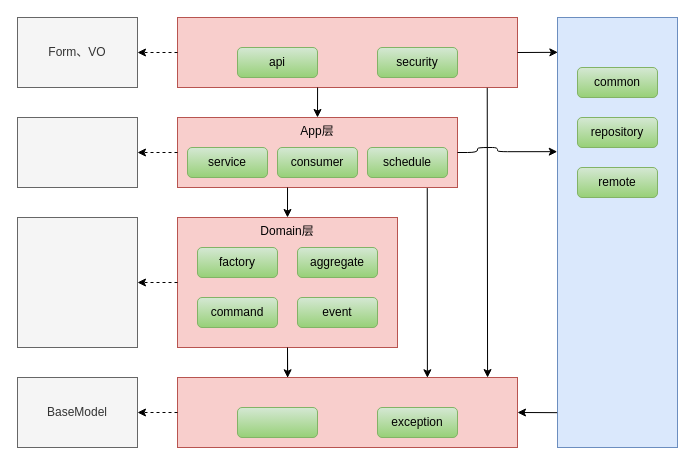
Image size: 695x465. Some labels were removed from this diagram. Here are the shapes that lost their labels. From the top down, the box of each, then its label:
(176, 16, 518, 88): Adapter层
(16, 116, 138, 188): DTO
(556, 16, 678, 448): Infrastructure层 （Infra）
(16, 216, 138, 348): Command、 Event
(236, 406, 318, 438): base
(176, 376, 518, 448): Core层
